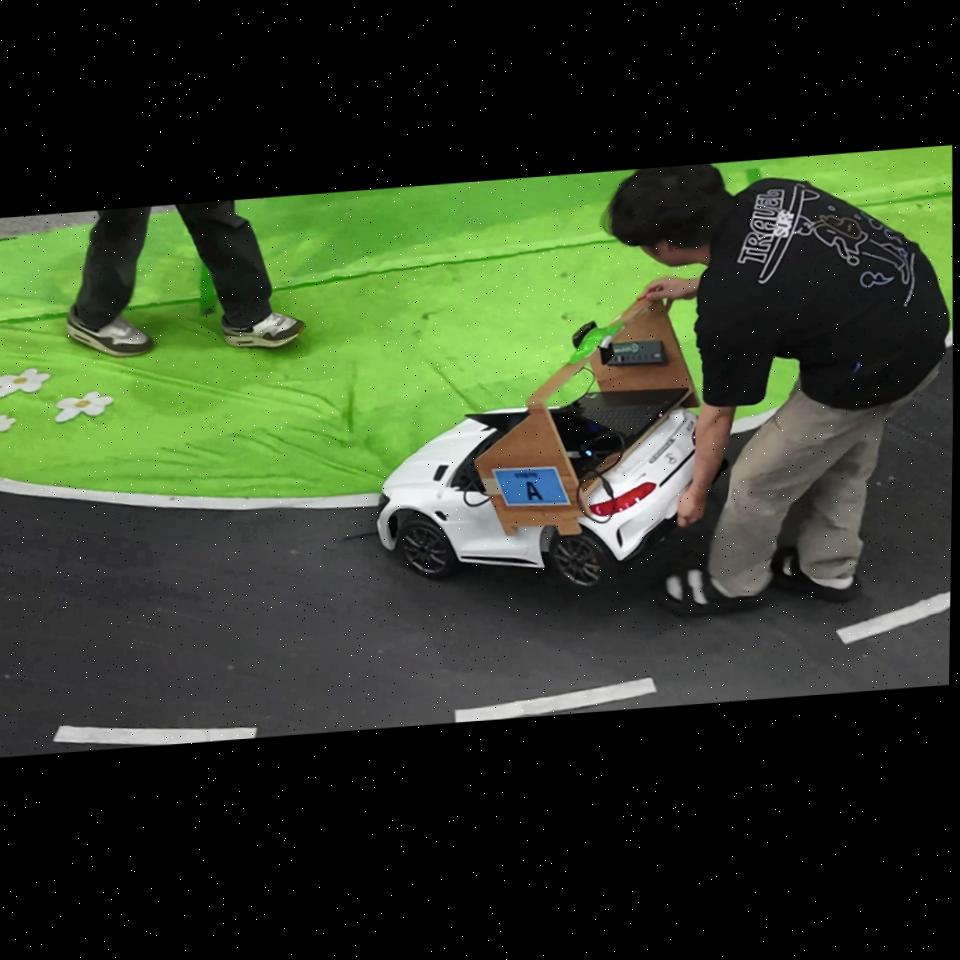broken_line: (454, 677, 657, 722), (836, 591, 950, 645), (52, 726, 258, 745)
